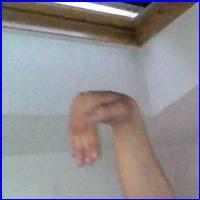del: (62, 88, 152, 177)
